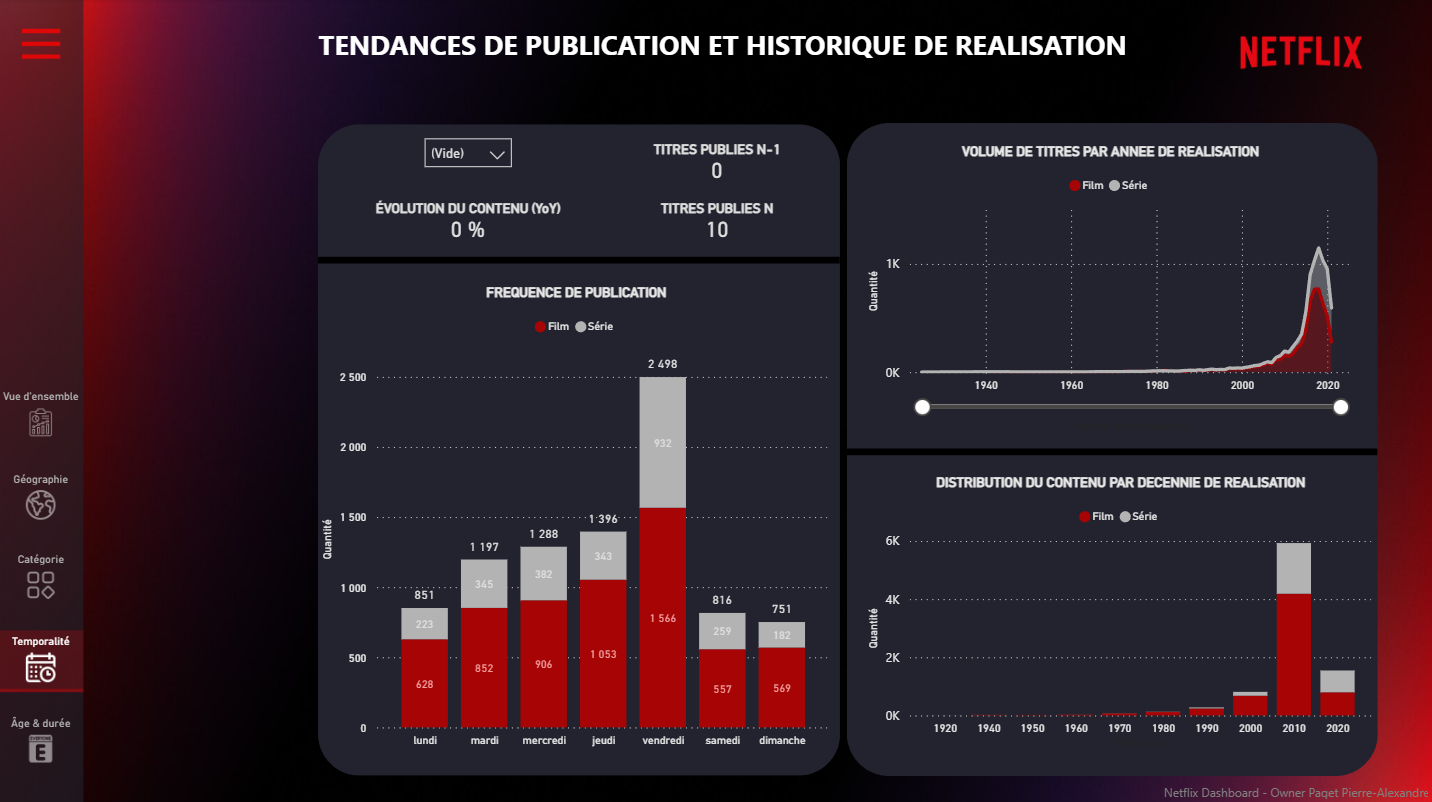

The dashboard page shown, as its layout file describes it:
{"tool":"powerbi","page":{"name":"Temporalité","canvas":[1280,720],"ordinal":3},"visuals":[{"type":"group","id":"g1","title":"Groupe MENU","box":[0,0,229.2,720.7],"z":0},{"type":"shape","title":"Forme - pages","box":[0,0,76,720.7],"z":0,"group":"g2"},{"type":"shape","title":"Forme - réalisation","box":[755.5,111.3,473,581.6],"z":1000},{"type":"pageNavigator","box":[0,344.1,76.2,351],"z":1000,"group":"g2"},{"type":"group","id":"g2","title":"Groupe de page","box":[0,0,76.2,720.7],"z":2000,"group":"g1"},{"type":"image","title":"Image - menu","box":[15.2,15.7,45.7,50],"z":2000,"group":"g2"},{"type":"shape","title":"Forme - parution","box":[285.2,112.7,465,580.2],"z":2000},{"type":"textbox","box":[1013.5,692.5,266.9,27.5],"z":4000},{"type":"textbox","box":[280.9,20,875.5,41.8],"z":5000},{"type":"image","title":"Image - logo","box":[1094.2,0,132.7,94.1],"z":6000},{"type":"shape","title":"Forme - trait noir","box":[755.5,374.2,472.6,60.3],"z":7000},{"type":"stackedAreaChart","title":"VOLUME DE TITRES PAR ANNEE DE REALISATION","fields":{"Category":["Titles.release_year"],"Y":["CountNonNull(Titles.type)"],"Series":["Titles.type"]},"box":[770.2,129.1,441,263],"z":8000},{"type":"columnChart","title":"DISTRIBUTION DU CONTENU PAR DECENNIE DE REALISATION","fields":{"Y":["CountNonNull(Titles.type)"],"Series":["Titles.type"],"Category":["Titles.Decennie"]},"box":[770.2,424.1,459.1,250.4],"z":9000},{"type":"shape","title":"Forme - trait noir","box":[285.5,203.9,464.6,59.4],"z":10000},{"type":"slicer","fields":{"Values":["Date.Date.Variation.Hiérarchie de dates.Année"]},"box":[375.3,120.8,87,39],"z":11000},{"type":"card","title":"ÉVOLUTION DU CONTENU (YoY)","fields":{"Values":["Mesures.taux_evolution_parution"]},"box":[322.1,180.2,193.5,42.9],"z":12000},{"type":"card","title":"TITRES PUBLIES N-1","fields":{"Values":["Mesures.nb_contenu_periode_precedente"]},"box":[567.5,128.6,145.5,42.9],"z":13000},{"type":"card","title":"TITRES PUBLIES N","fields":{"Values":["Mesures.nb_contenus"]},"box":[567.5,180.2,145.5,42.9],"z":14000},{"type":"columnChart","title":"FREQUENCE DE PUBLICATION","fields":{"Category":["Date.Date.Variation.Hiérarchie de dates.Année","Date.Date.Variation.Hiérarchie de dates.Trimestre","Date.Date.Variation.Hiérarchie de dates.Mois","Date.Jour de la Semaine"],"Y":["CountNonNull(Titles.type)"],"Series":["Titles.type"]},"box":[284.4,254.5,462.3,419.5],"z":15000},{"type":"image","title":"Vue d''ensemble","box":[0,349.4,76.3,41.7],"z":16000},{"type":"image","title":"Géographie","box":[0,423,76.3,41.7],"z":17000},{"type":"image","title":"Catégorie","box":[0,494.8,76.3,41.7],"z":18000},{"type":"image","title":"Temporalité","box":[0,567.5,76.3,41.7],"z":19000},{"type":"image","title":"Âge & durée","box":[0,640.2,76.3,41.7],"z":20000}]}

Visuals, with their boxes in screenshot pixels (x1, y1, x2, y2), scaled from the page's 1280x720 canvas onto the 1432x802 screenshot:
"Groupe MENU" group: <region>0, 0, 256, 801</region>
"Forme - pages" shape: <region>0, 0, 85, 801</region>
"Forme - réalisation" shape: <region>845, 124, 1374, 772</region>
pageNavigator: <region>0, 383, 85, 774</region>
"Groupe de page" group: <region>0, 0, 85, 801</region>
"Image - menu" image: <region>17, 17, 68, 73</region>
"Forme - parution" shape: <region>319, 126, 839, 772</region>
textbox: <region>1134, 771, 1431, 801</region>
textbox: <region>314, 22, 1294, 69</region>
"Image - logo" image: <region>1224, 0, 1373, 105</region>
"Forme - trait noir" shape: <region>845, 417, 1374, 484</region>
"VOLUME DE TITRES PAR ANNEE DE REALISATION" stackedAreaChart: <region>862, 144, 1355, 437</region>
"DISTRIBUTION DU CONTENU PAR DECENNIE DE REALISATION" columnChart: <region>862, 472, 1375, 751</region>
"Forme - trait noir" shape: <region>319, 227, 839, 293</region>
slicer - Date.Date.Variation.Hiérarchie de dates.Année: <region>420, 135, 517, 178</region>
"ÉVOLUTION DU CONTENU (YoY)" card: <region>360, 201, 577, 249</region>
"TITRES PUBLIES N-1" card: <region>635, 143, 798, 191</region>
"TITRES PUBLIES N" card: <region>635, 201, 798, 249</region>
"FREQUENCE DE PUBLICATION" columnChart: <region>318, 283, 835, 751</region>
"Vue d''ensemble" image: <region>0, 389, 85, 436</region>
"Géographie" image: <region>0, 471, 85, 518</region>
"Catégorie" image: <region>0, 551, 85, 598</region>
"Temporalité" image: <region>0, 632, 85, 679</region>
"Âge & durée" image: <region>0, 713, 85, 760</region>
